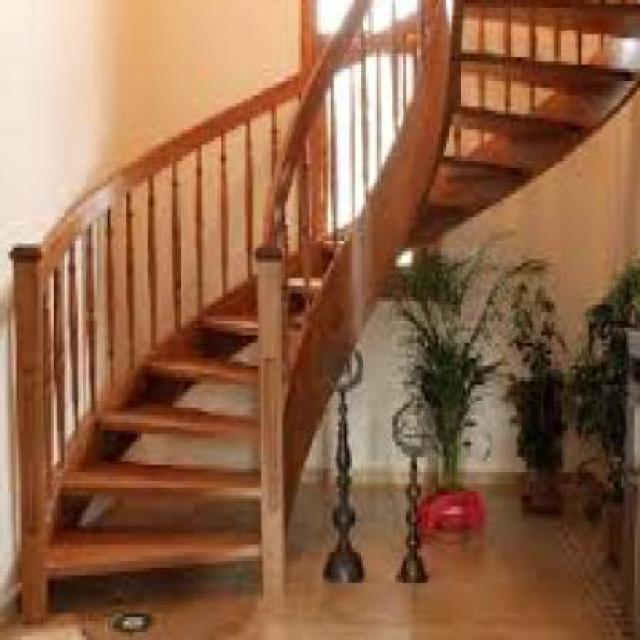stair: (8, 21, 390, 634)
